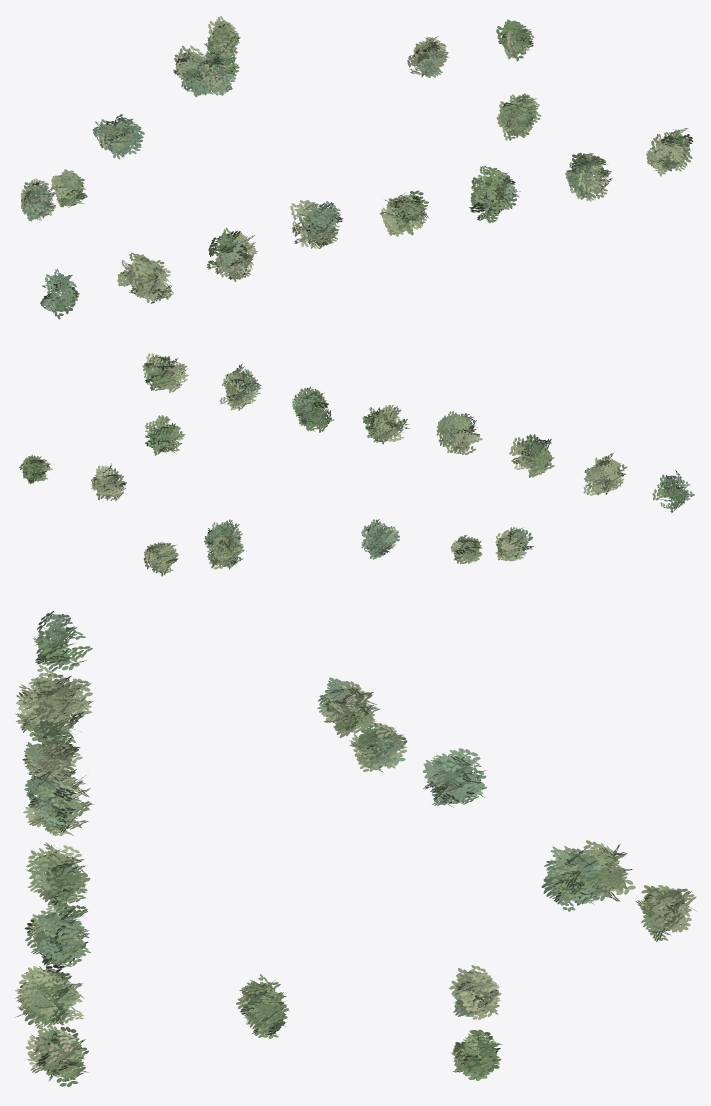
Rendered from campus-tree--4_-1-far.glb.
The picture shows the model from 3 angles, top to bottom: view 1: azimuth 30°, elevation 25°; view 2: azimuth 150°, elevation 25°; view 3: azimuth 270°, elevation 25°; orthographic projection. The views are drawn at different scales.
Parts seen in each view (by area): view 1: Campus leaf canopy; view 2: Campus leaf canopy; view 3: Campus leaf canopy.
Boxes of the visible parts, box(x1,y1,x2,y2) form: Campus leaf canopy: box(21, 16, 693, 319); Campus leaf canopy: box(19, 353, 694, 576); Campus leaf canopy: box(15, 611, 696, 1086).
Size of the model in its own units: 83.89 by 8.18 by 56.12.
1 material, 1 textured.
